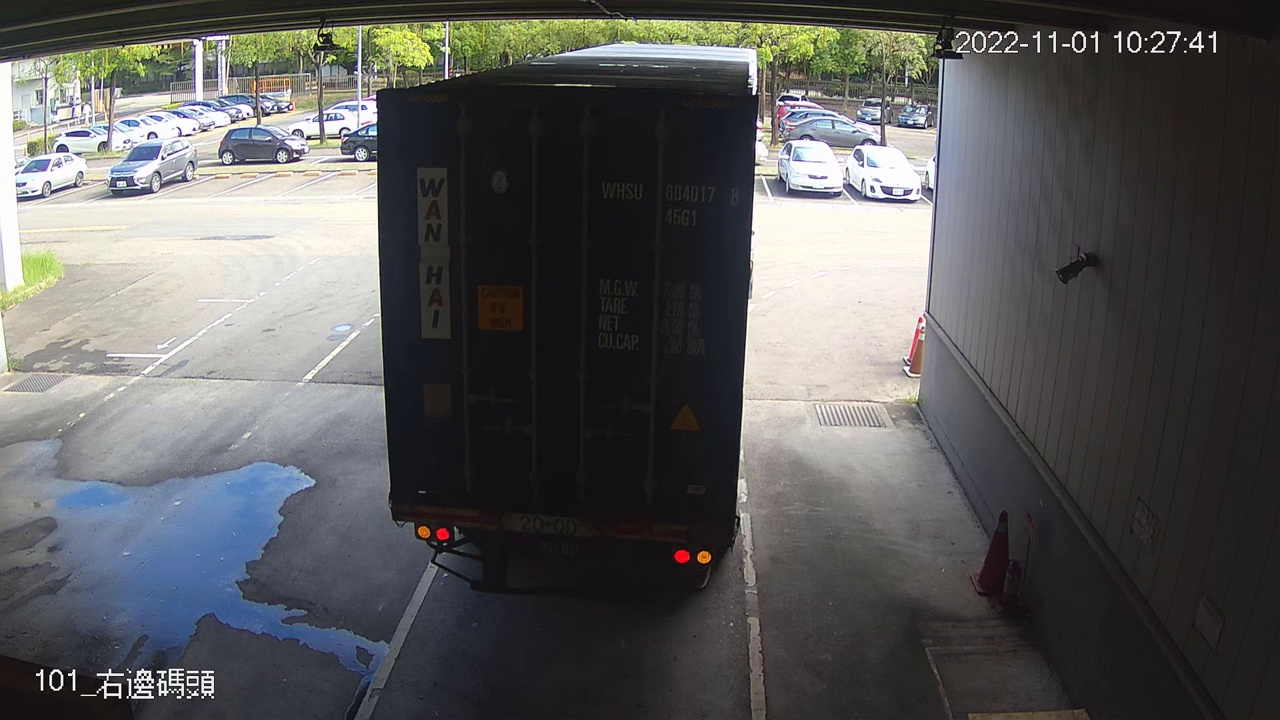container: (595, 171, 746, 230)
